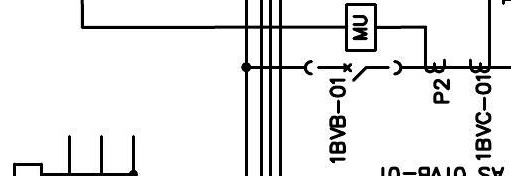22_breaker: (303, 59, 403, 82)
MU: (344, 2, 378, 53)
